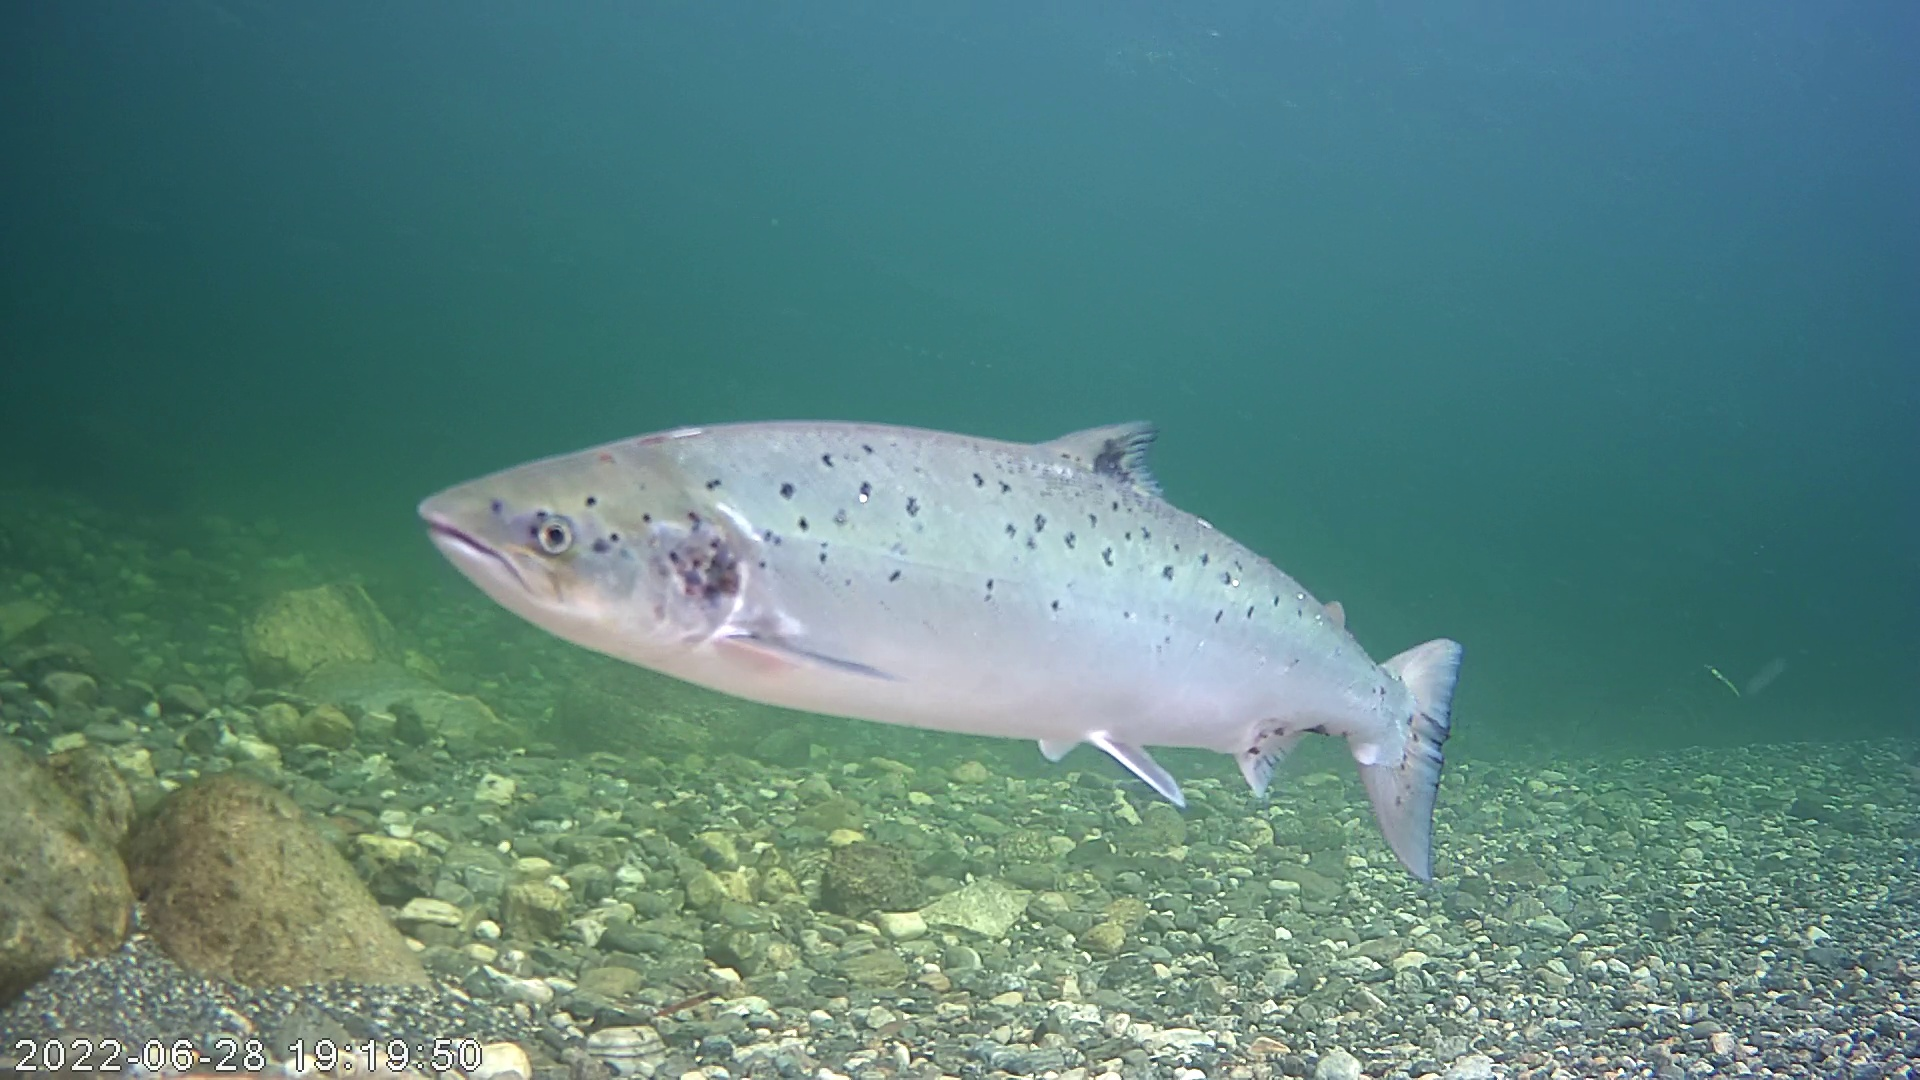salmon: (401, 277, 1469, 873)
